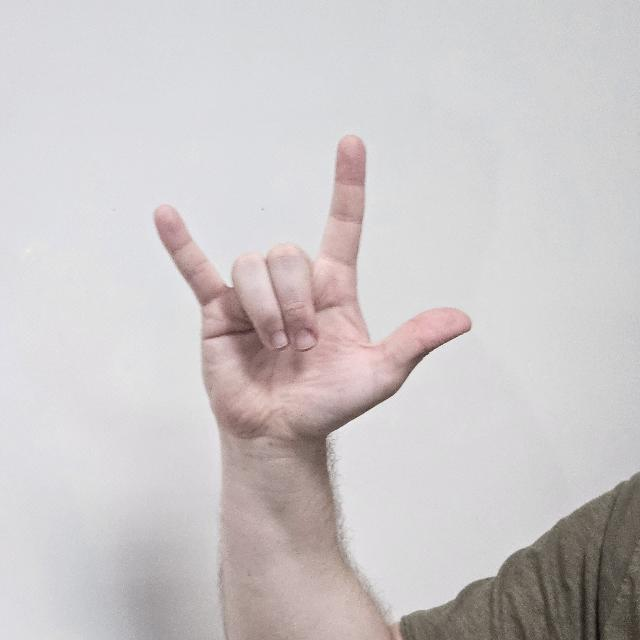Cima: (149, 135, 473, 457)
